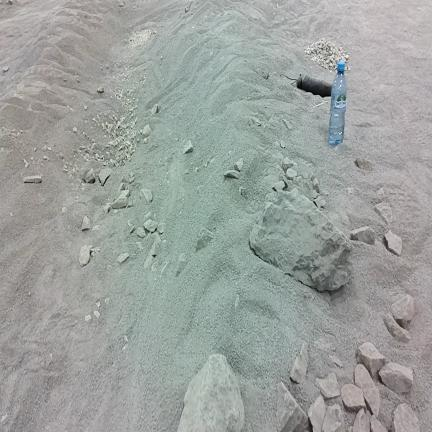Rock: (250, 189, 352, 290), (178, 354, 244, 431), (277, 383, 308, 431), (355, 364, 380, 415), (379, 363, 413, 393), (356, 343, 385, 377), (384, 313, 410, 342), (393, 404, 419, 431), (341, 384, 366, 412), (392, 295, 414, 326), (291, 343, 308, 383), (308, 396, 326, 431), (316, 373, 340, 398), (322, 405, 345, 431), (351, 227, 375, 244), (385, 231, 402, 255), (196, 228, 213, 251), (353, 409, 370, 431), (375, 203, 392, 224), (111, 190, 128, 209), (370, 415, 387, 431), (176, 253, 187, 276), (98, 168, 112, 186), (355, 157, 372, 170), (81, 168, 95, 183), (79, 245, 89, 266), (139, 188, 153, 203), (144, 219, 158, 232), (282, 158, 294, 172), (329, 355, 343, 367), (144, 255, 155, 269), (314, 195, 325, 208), (183, 140, 193, 154), (24, 175, 41, 183), (286, 168, 297, 180), (117, 253, 129, 264), (234, 158, 244, 171), (272, 181, 285, 191), (150, 242, 159, 256), (81, 216, 90, 230), (257, 69, 269, 79), (224, 170, 239, 178), (142, 125, 151, 138), (136, 227, 146, 238), (282, 119, 292, 130), (249, 117, 261, 126), (103, 203, 112, 214), (234, 294, 240, 310), (313, 178, 319, 193), (118, 182, 127, 192), (377, 188, 385, 199), (157, 223, 165, 234), (151, 104, 159, 114), (129, 226, 136, 234), (57, 152, 64, 159), (122, 343, 128, 351), (97, 87, 104, 93), (94, 311, 100, 318), (118, 0, 124, 7), (104, 298, 110, 305), (128, 176, 134, 183), (124, 141, 131, 147), (280, 140, 285, 148), (345, 53, 349, 62), (85, 315, 91, 321), (327, 42, 334, 47), (3, 67, 8, 73), (83, 132, 88, 138), (131, 105, 137, 110), (319, 53, 324, 59), (124, 335, 128, 342), (117, 121, 121, 128), (74, 164, 78, 171), (63, 168, 68, 173), (143, 138, 148, 143), (114, 162, 119, 167), (329, 50, 334, 55), (323, 50, 328, 55), (73, 127, 77, 133), (23, 158, 27, 164), (7, 0, 13, 4), (319, 42, 323, 48), (119, 160, 123, 166), (115, 140, 119, 146), (330, 53, 334, 59), (335, 57, 339, 63), (95, 153, 99, 158), (62, 207, 66, 212), (96, 302, 100, 307), (9, 212, 13, 217), (119, 145, 123, 150), (130, 172, 134, 177), (105, 129, 109, 134), (305, 51, 310, 55), (322, 38, 327, 42), (329, 62, 333, 67), (25, 161, 28, 167), (133, 143, 136, 149), (30, 156, 34, 160), (63, 165, 67, 169), (106, 152, 110, 156), (75, 196, 79, 200), (103, 162, 107, 166), (129, 108, 133, 112), (184, 170, 188, 174), (306, 47, 310, 51), (84, 105, 87, 110), (70, 107, 73, 112), (109, 114, 112, 119), (339, 47, 342, 52), (135, 117, 137, 124), (20, 130, 23, 134), (80, 146, 84, 149), (92, 139, 95, 143), (102, 123, 104, 129), (92, 118, 96, 121), (72, 168, 75, 172), (132, 149, 135, 153), (110, 159, 113, 163), (86, 153, 89, 157), (83, 156, 86, 160), (101, 155, 104, 159), (322, 58, 325, 62), (34, 147, 36, 152), (115, 116, 117, 121), (44, 156, 47, 159), (48, 147, 51, 150), (86, 158, 89, 161), (112, 116, 114, 120), (68, 131, 71, 133), (85, 120, 87, 123), (91, 126, 93, 129), (104, 135, 106, 137)
